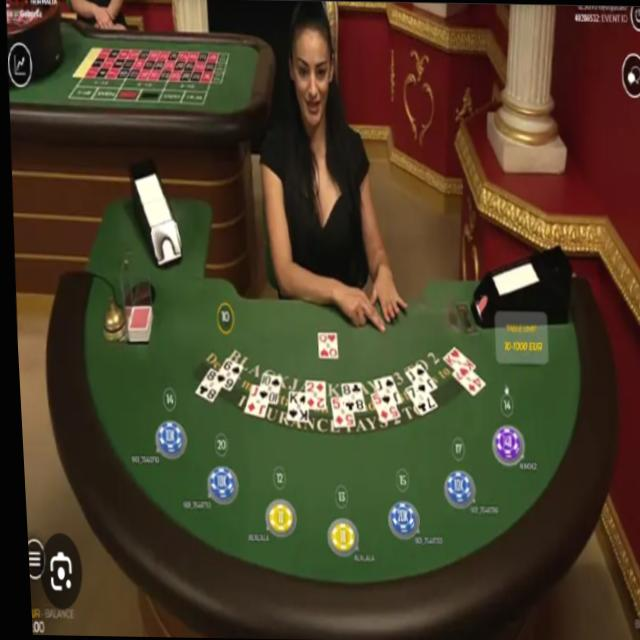Card-10: (253, 373, 277, 404)
Card-2: (301, 379, 321, 408)
Card-4: (447, 369, 481, 397)
Card-5: (366, 392, 395, 422), (326, 396, 351, 427)
Card-6: (210, 358, 238, 390)
Card-7: (401, 383, 433, 415)
Card-8: (190, 369, 217, 402), (337, 382, 361, 412)
Card-J: (400, 363, 432, 397), (369, 374, 397, 407), (239, 384, 263, 417)
Card-K: (438, 345, 472, 378), (282, 391, 303, 422)
Card-Q: (314, 332, 333, 358)
